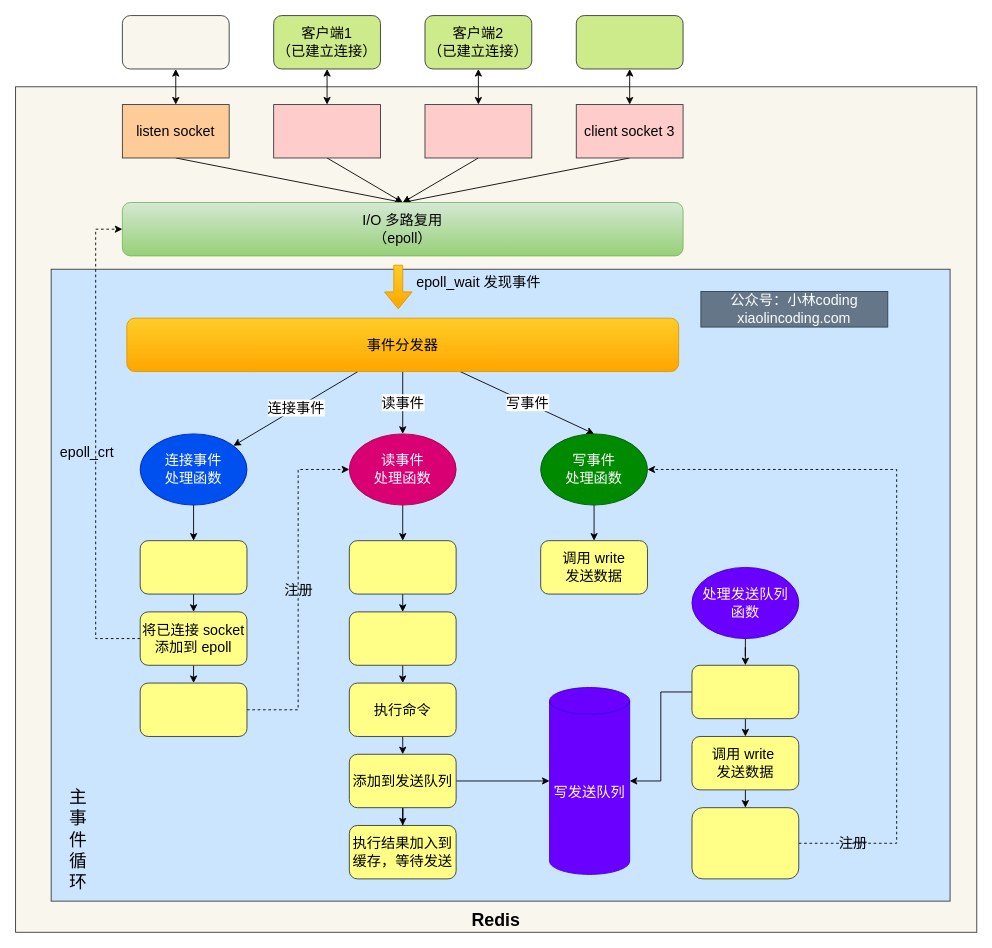
The diagram is 992 pixels wide and 948 high, and some of its shapes have lost their labels. Each missing label, with the centre of its shape:
client socket 1: the point at 326,131
client socket 2: the point at 478,131
如果数据没发送完，就注册「写事件」处理函数: the point at 745,843
客户端 （发起连接）: the point at 175,42
客户端3 （已建立连接）: the point at 629,42
注册「读事件」处理函数: the point at 193,709
解析命令: the point at 402,638
调用 accept 接收连接: the point at 193,567
调用 read 接收数据: the point at 402,567
遍历发送队列: the point at 745,691
